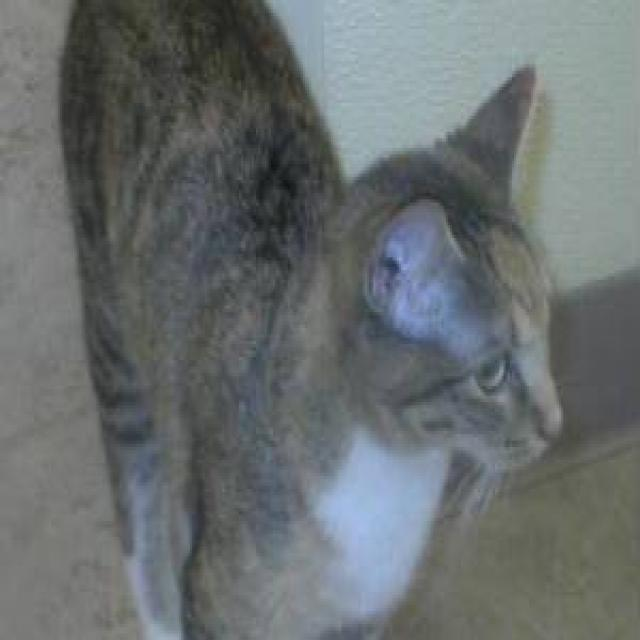cat: (56, 0, 566, 637)
